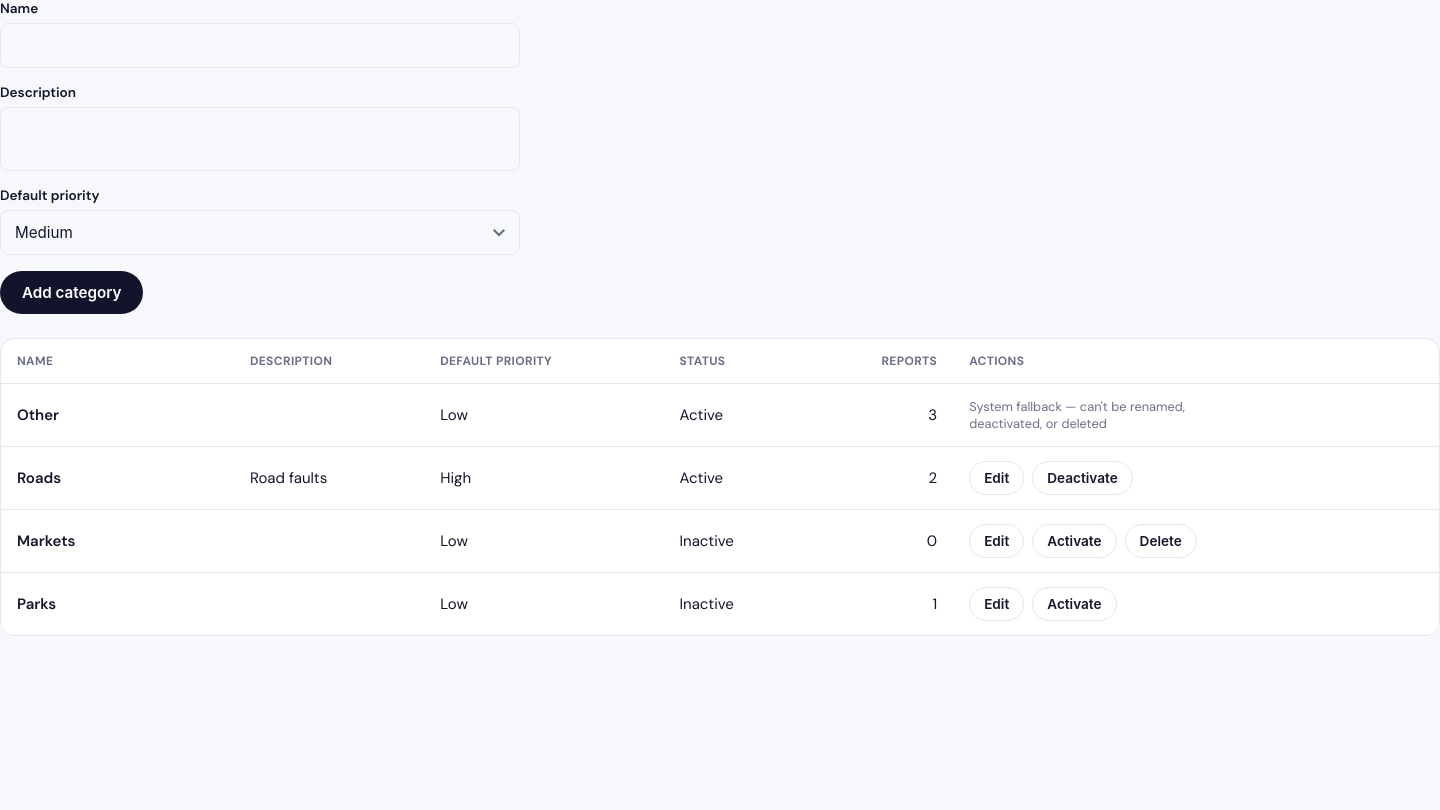
Test: CategoriesPage › shows a failed row action on its row and clears it when the next action starts
Click the button with aria-label "Delete Markets": (1161, 541) [1125,524,1197,558]
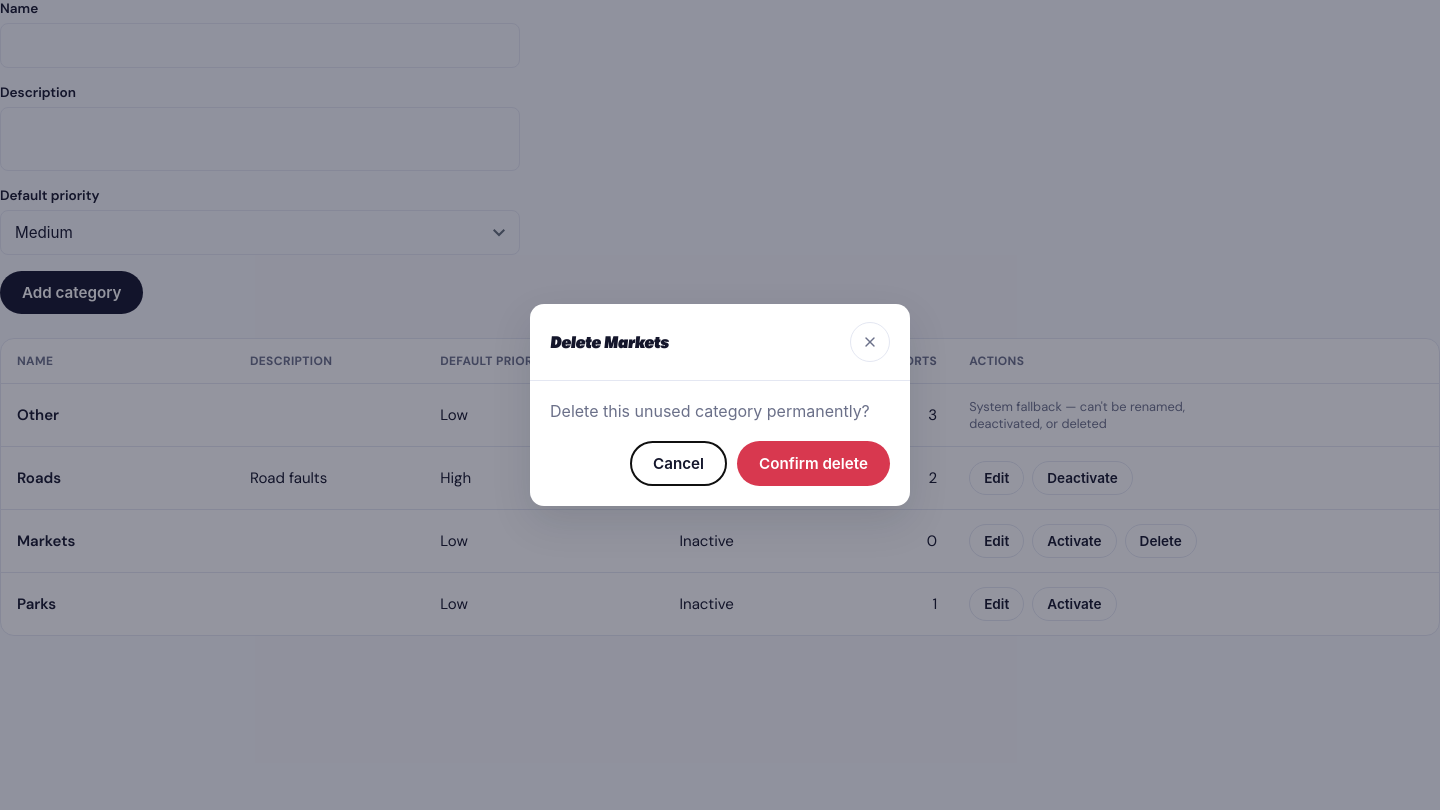
Click the button "Confirm delete": (814, 464) [737,441,890,486]
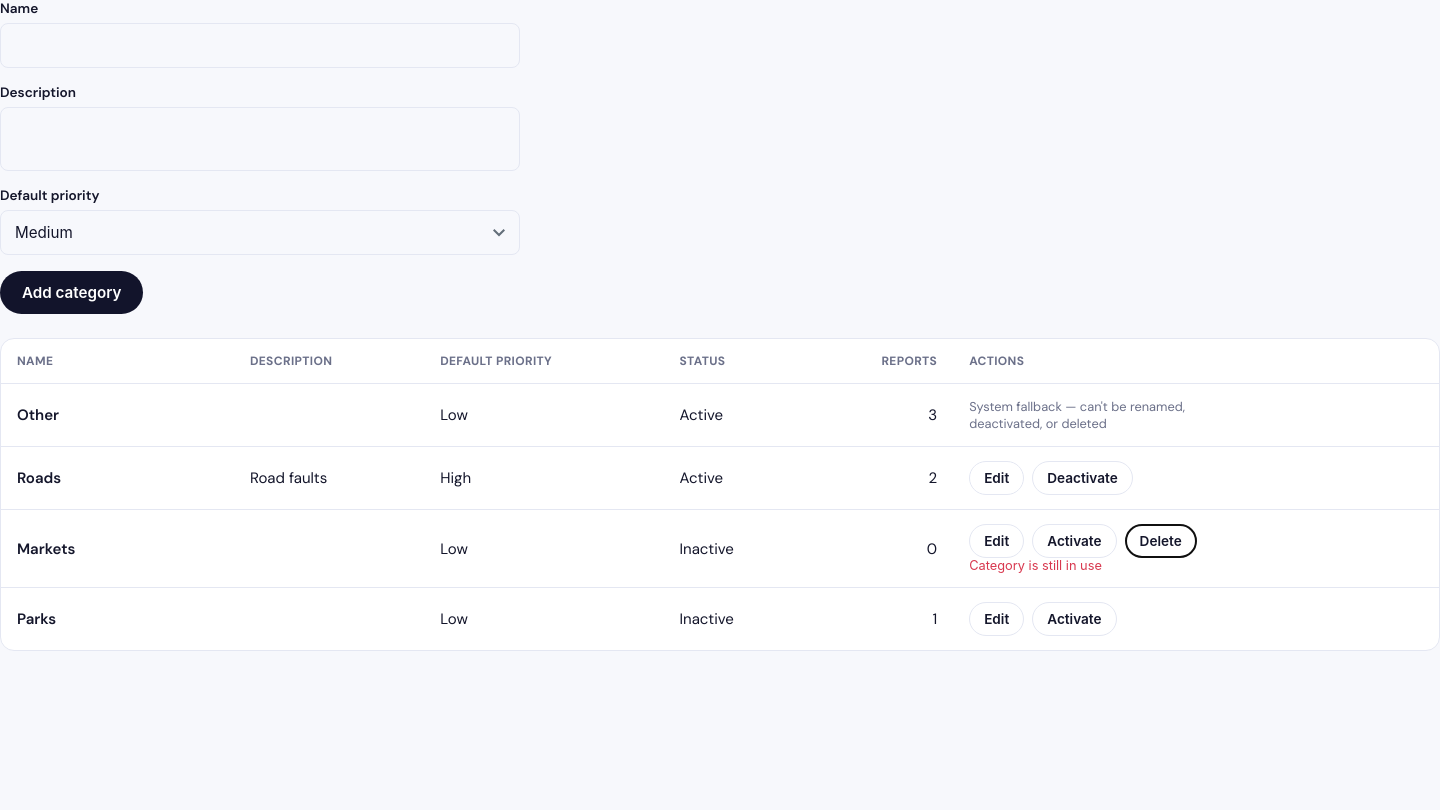
Result: the message reads "Category is still in use" at [969,558,1102,573]
Click the button with aria-label "Activate Markets": (1074, 541) [1032,524,1116,558]
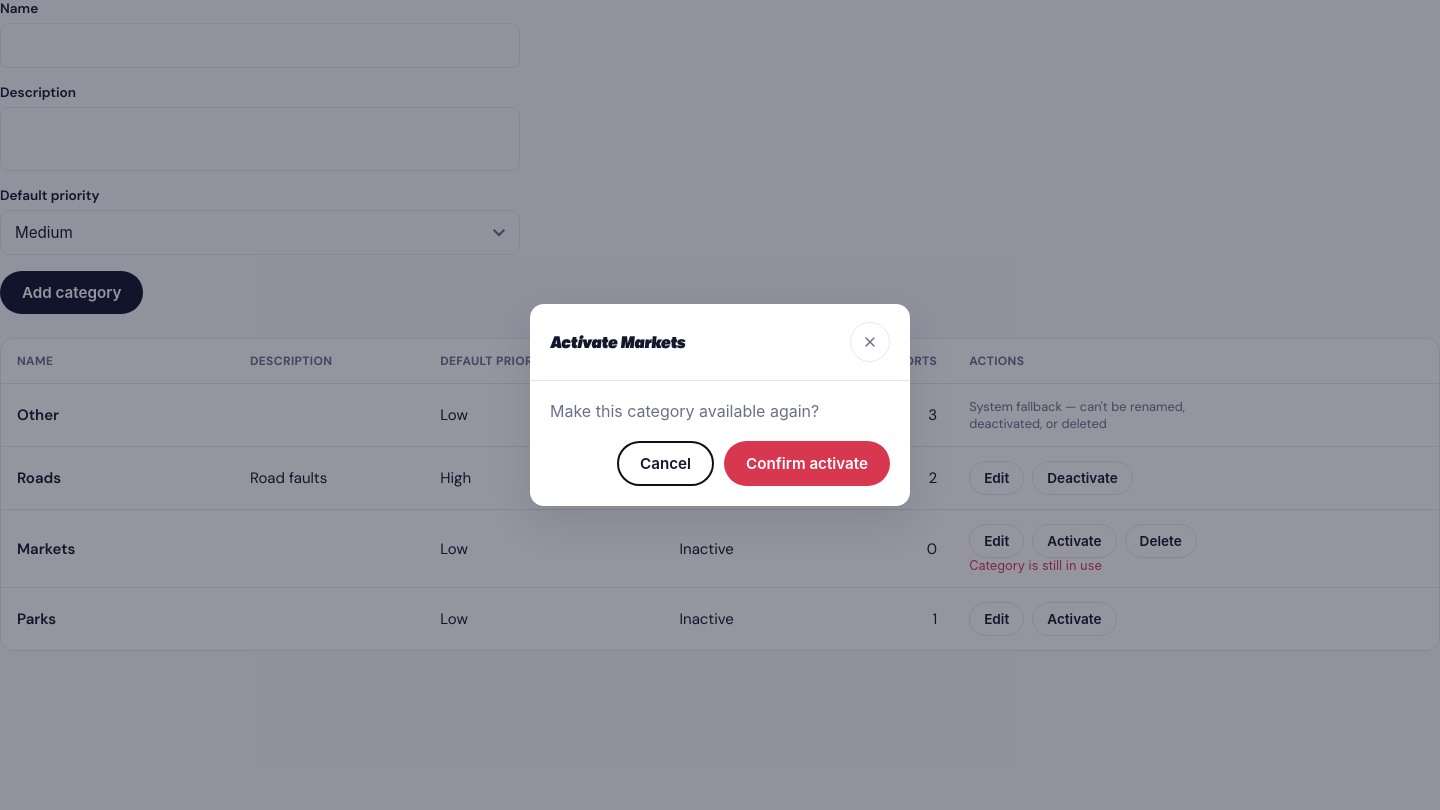
Click the button "Confirm activate": (807, 464) [724,441,890,486]
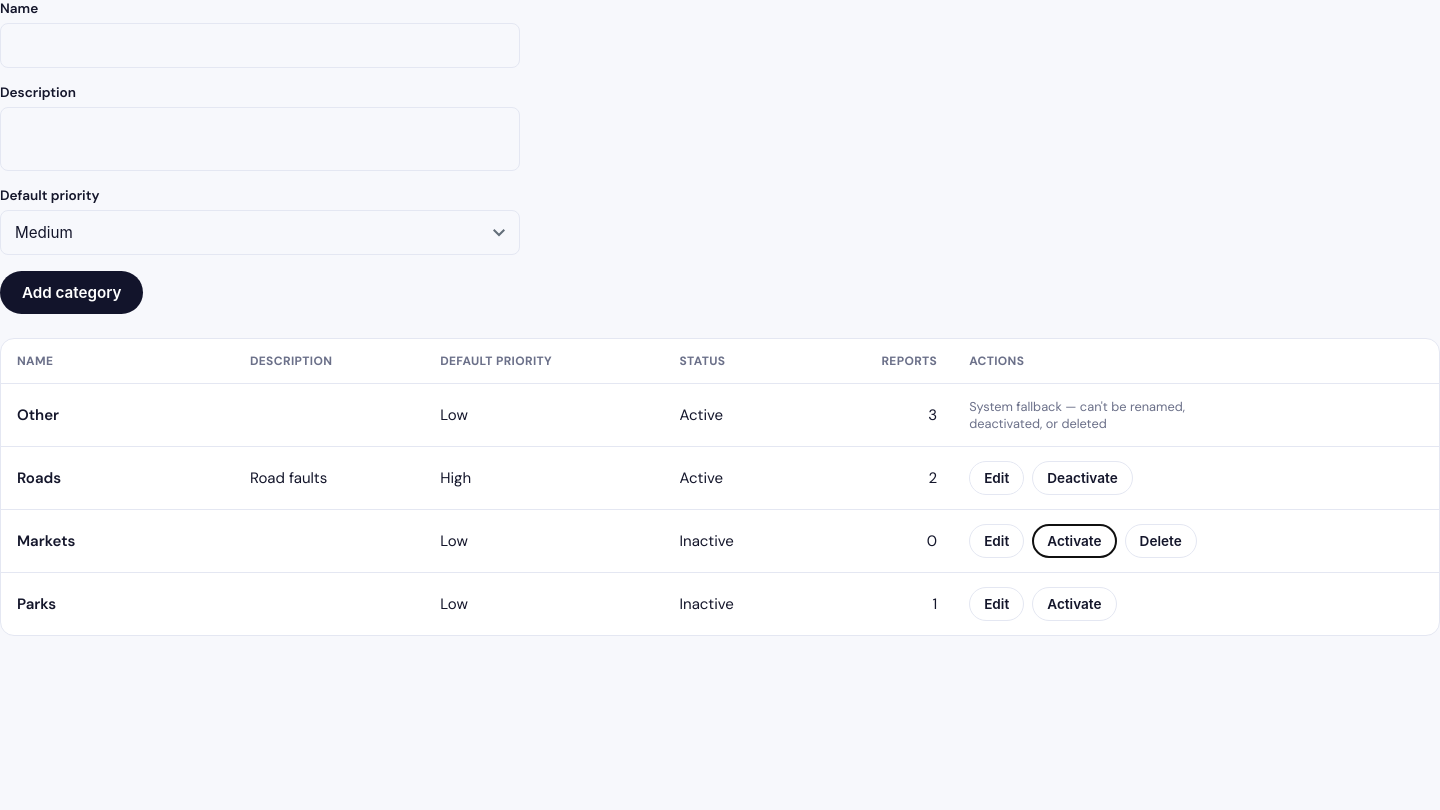
Result: the message "Category is still in use" is gone
